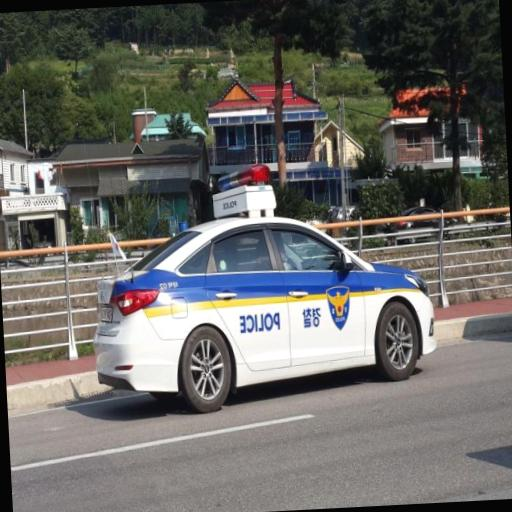Ambulance: (81, 156, 440, 416)
